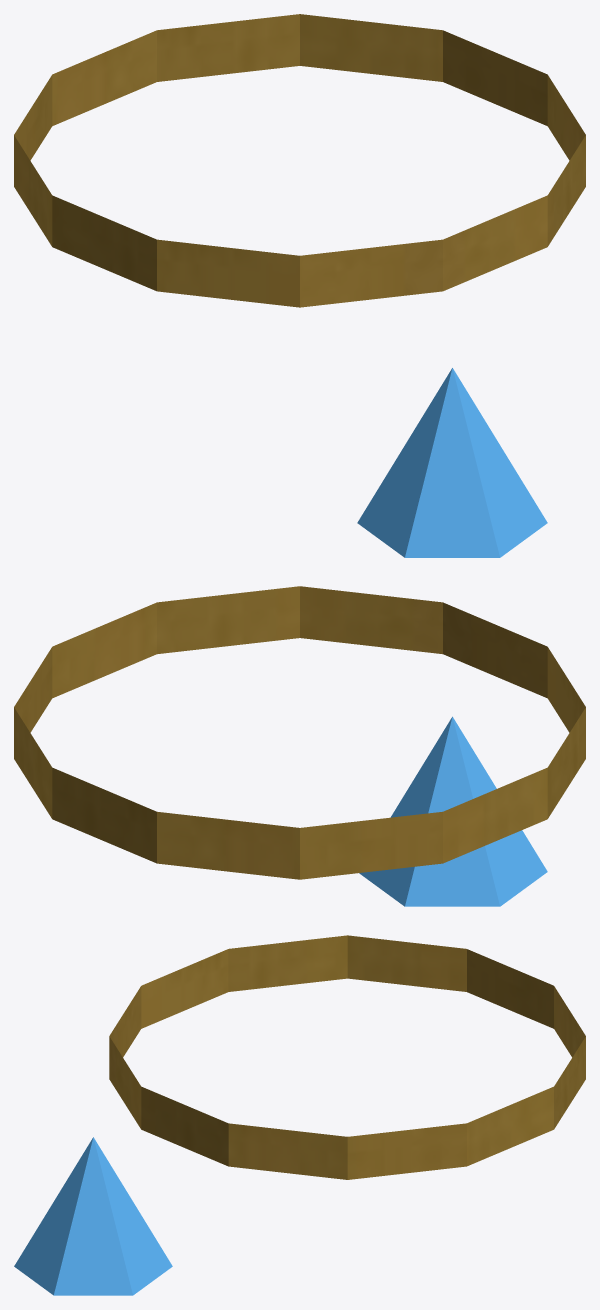
File: acc_necklace.glb
3 renders of one model, top to bottom at view 1: azimuth 30°, elevation 25°; view 2: azimuth 150°, elevation 25°; view 3: azimuth 270°, elevation 25°, orthographic. The views are drawn at different scales.
Visible parts, largest first — view 1: acc_necklace; view 2: acc_necklace; view 3: acc_necklace.
Boxes of the visible parts, x1,y1,x2,y2 form: acc_necklace: [14, 14, 585, 557]; acc_necklace: [14, 586, 585, 906]; acc_necklace: [14, 935, 585, 1295].
Bounding box in the file's own units: 0.15 × 0.08 × 0.18.
Materials: 2 (2 with a texture image).
